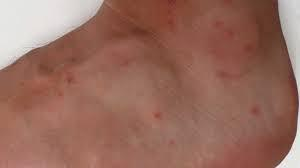Chiggers: (32, 62, 54, 78), (248, 103, 263, 118), (242, 41, 255, 55), (152, 108, 163, 121), (222, 29, 233, 38), (64, 76, 73, 86)
